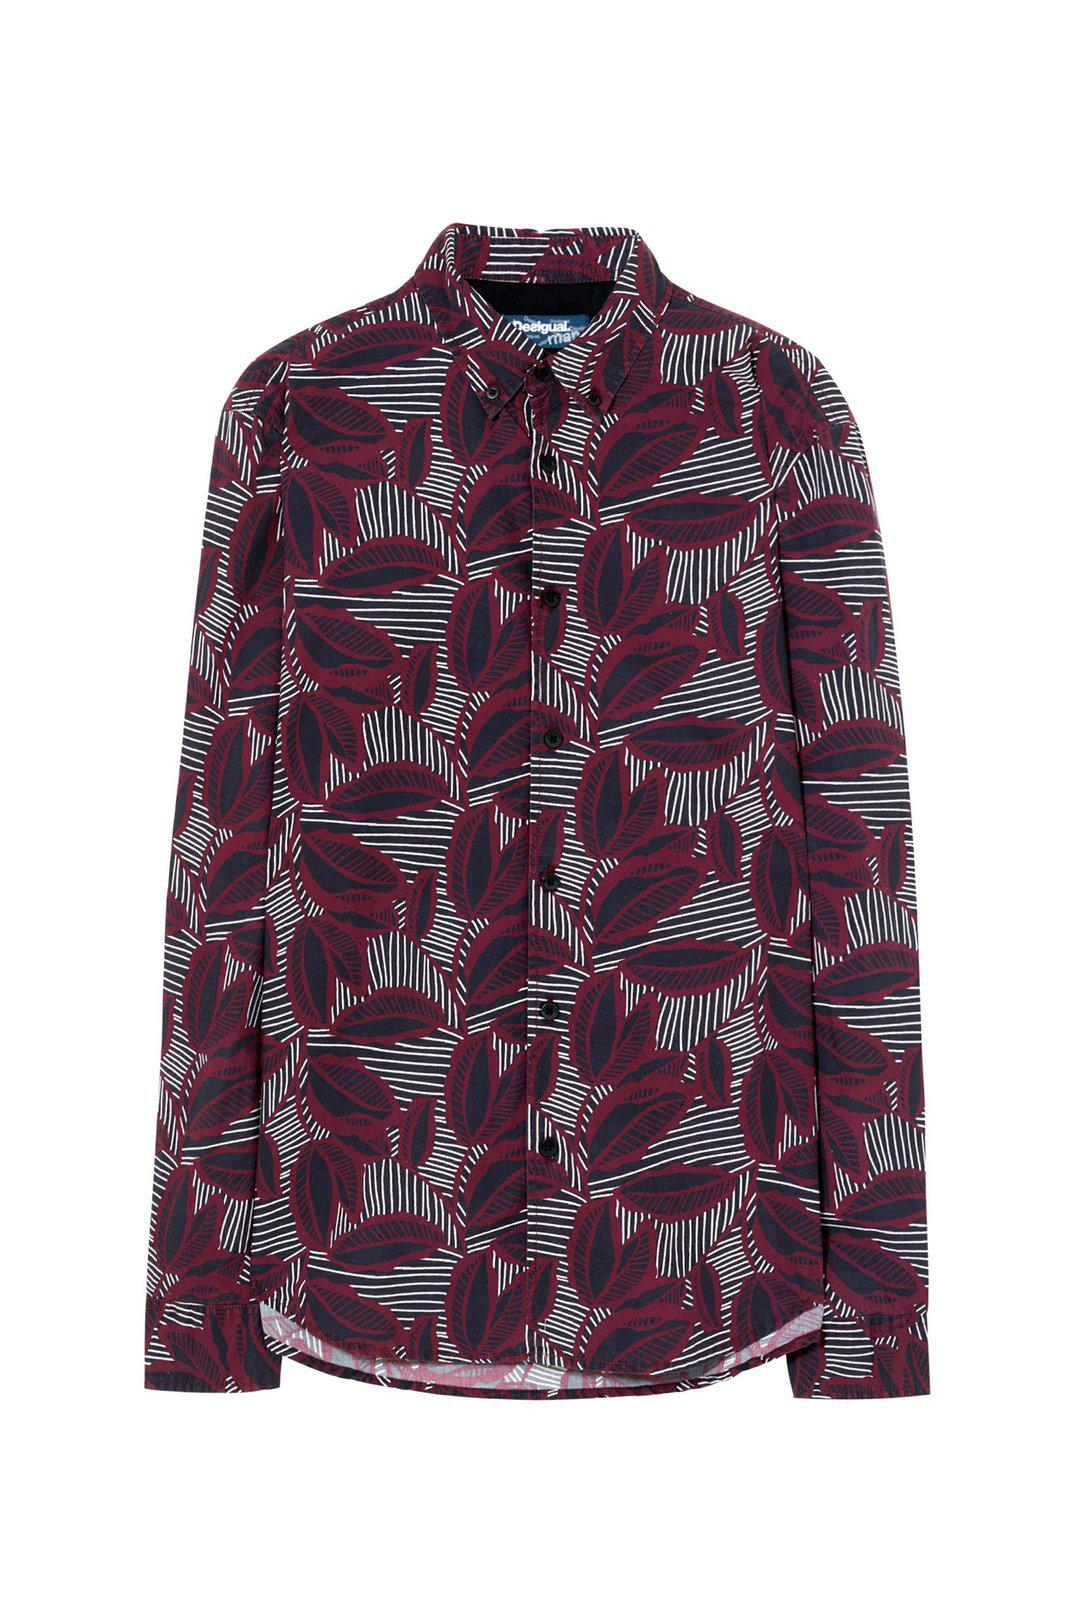teeshirt: (123, 212, 953, 1430)
